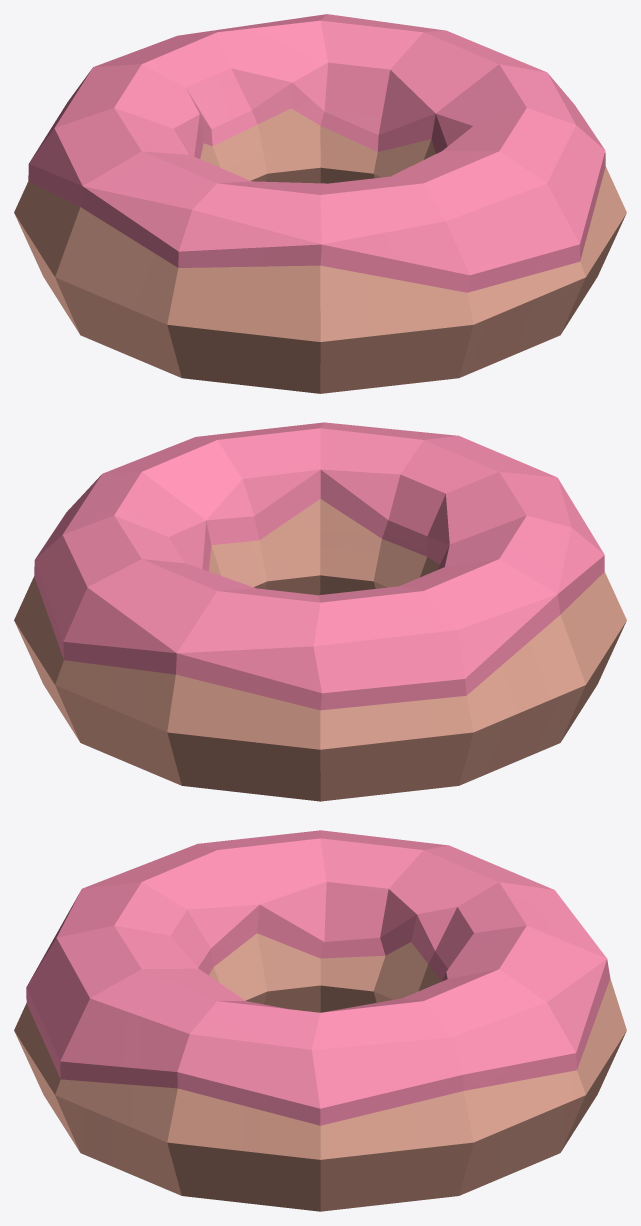
The model's file is donut_001.obj.
3 renders of one model, top to bottom at view 1: azimuth 30°, elevation 25°; view 2: azimuth 150°, elevation 25°; view 3: azimuth 270°, elevation 25°, orthographic.
Visible parts, largest first — view 1: donut_001; view 2: donut_001; view 3: donut_001.
Boxes of the visible parts, x1=… form: donut_001: x1=14, y1=14, x2=626, y2=393; donut_001: x1=14, y1=422, x2=626, y2=801; donut_001: x1=14, y1=830, x2=626, y2=1211.
Size of the model in its own units: 0.1069 by 0.0376 by 0.1069.
